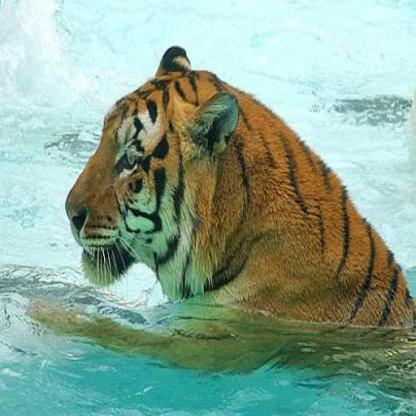Tiger: (47, 33, 416, 364)
